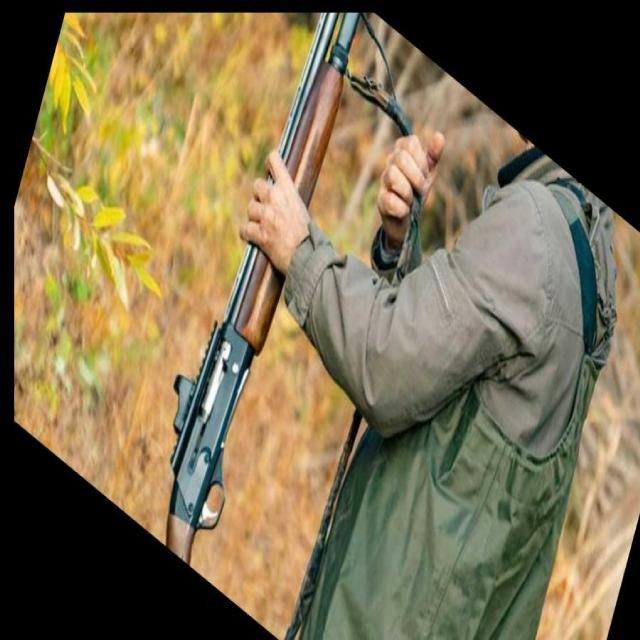weapon: (164, 12, 360, 562)
